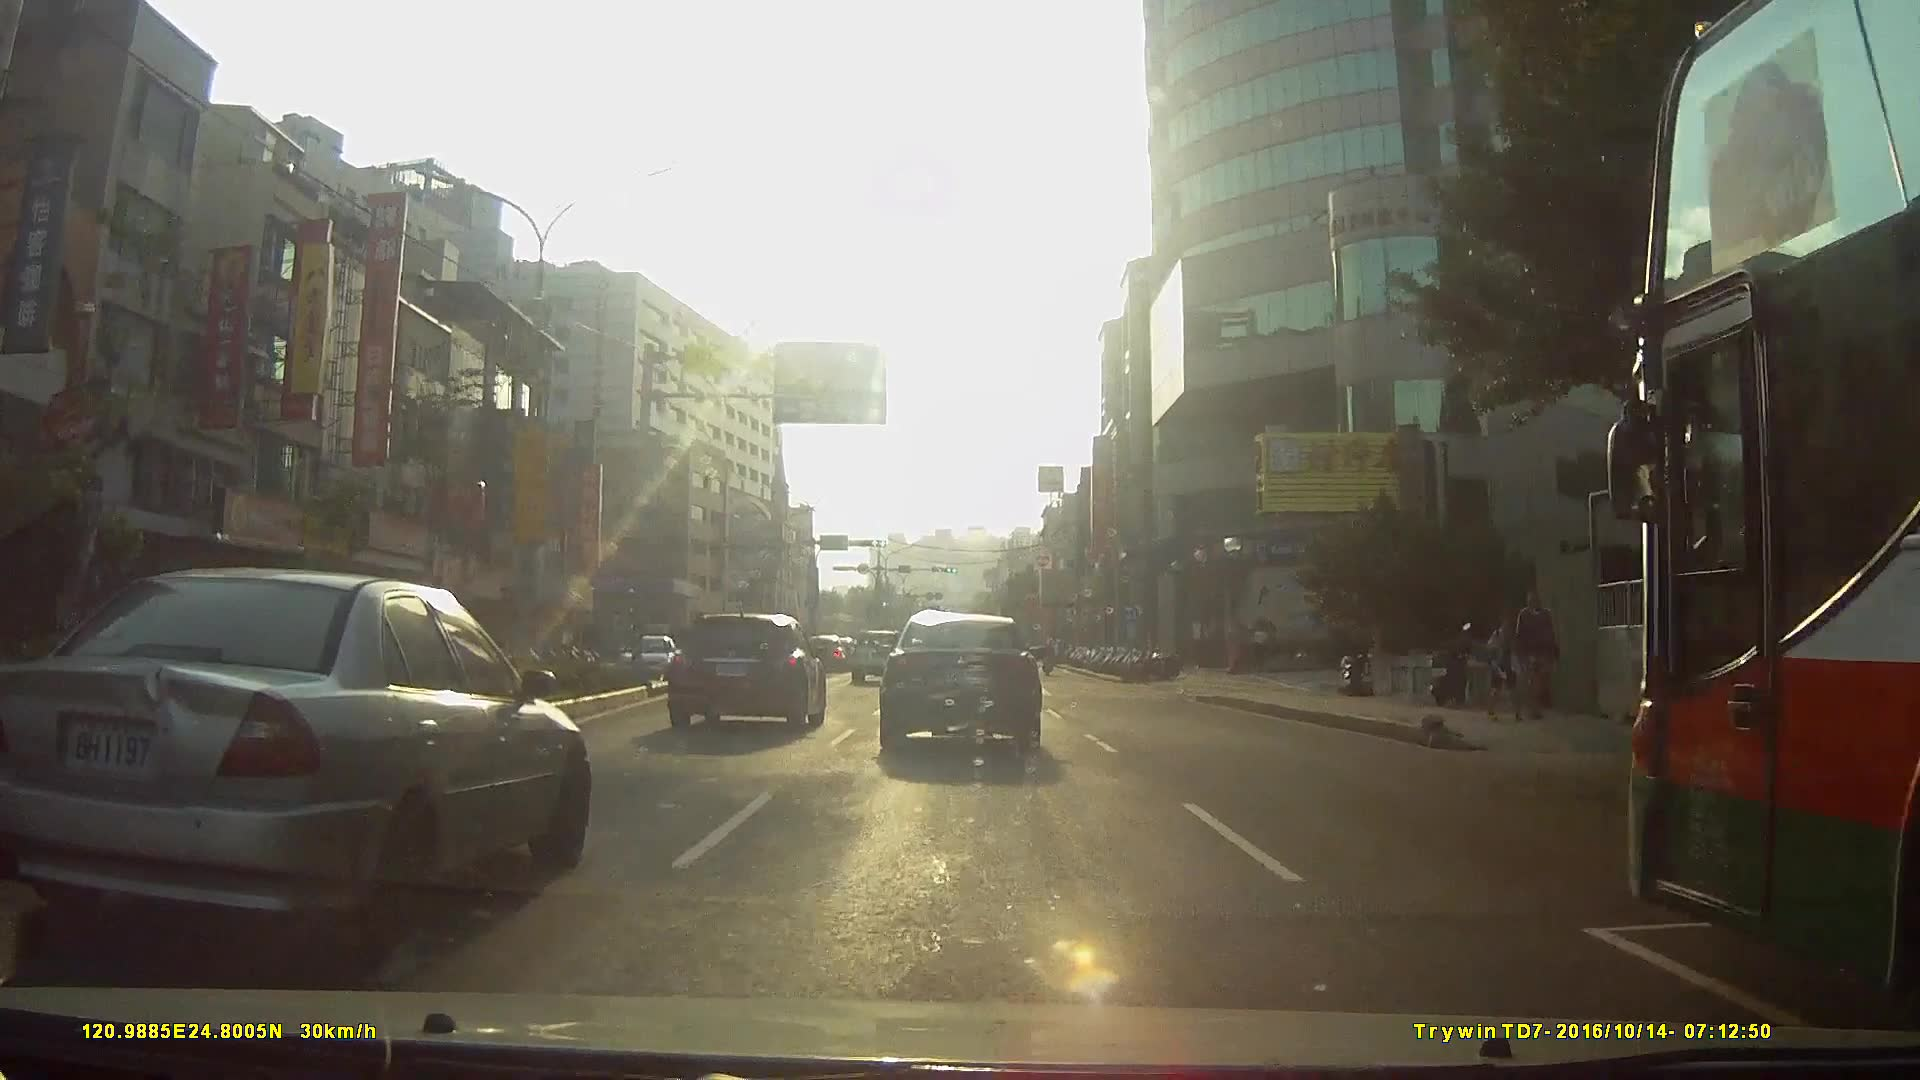pedestrian: (1507, 588, 1559, 723), (1480, 610, 1530, 722)
vehicle: (1542, 1, 1920, 998), (0, 566, 591, 956), (873, 611, 1040, 756), (665, 614, 826, 736), (846, 627, 906, 682), (621, 633, 680, 684)
